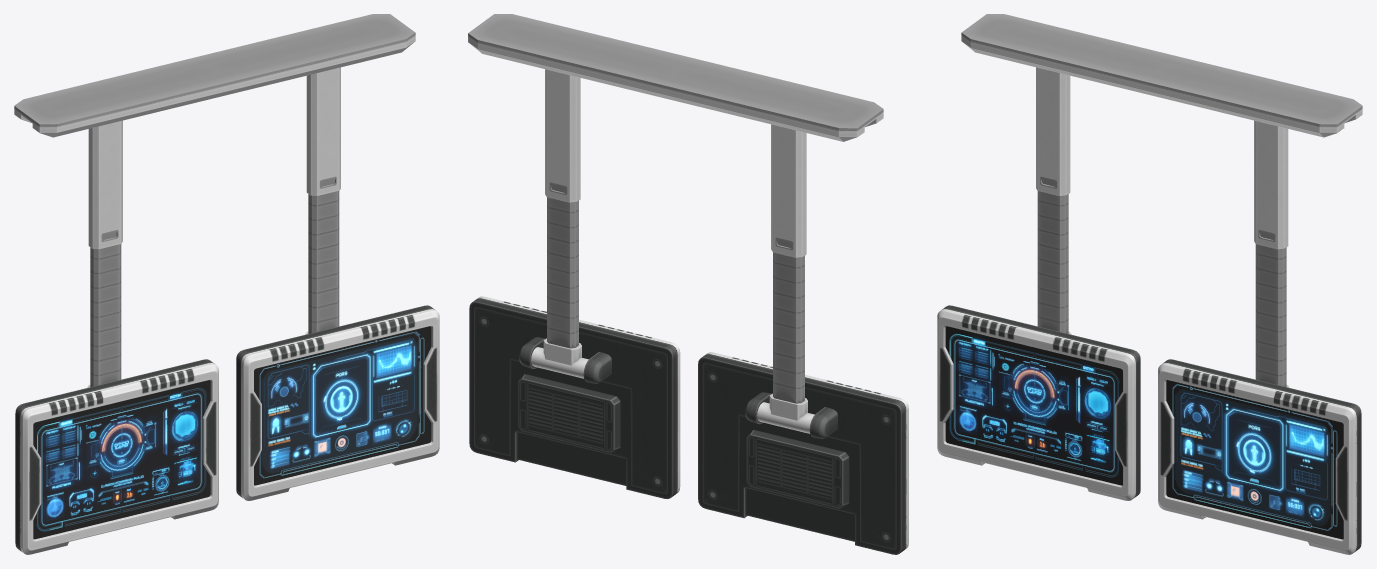
File: MedDisplay02_1.FBX
3 renders of one model, left to right at view 1: azimuth 30°, elevation 25°; view 2: azimuth 150°, elevation 25°; view 3: azimuth 330°, elevation 25°, orthographic. The views are drawn at different scales.
Visible parts, largest first — view 1: Displays, Base, Slides; view 2: Displays, Base, Slides; view 3: Displays, Base, Slides.
Part boxes in pixels (x1=…): Displays: x1=15, y1=305, x2=439, y2=554; Base: x1=14, y1=14, x2=415, y2=249; Slides: x1=87, y1=178, x2=339, y2=387; Displays: x1=469, y1=296, x2=908, y2=554; Base: x1=468, y1=14, x2=883, y2=257; Slides: x1=531, y1=184, x2=814, y2=433; Displays: x1=937, y1=305, x2=1361, y2=554; Base: x1=961, y1=14, x2=1362, y2=249; Slides: x1=1037, y1=178, x2=1289, y2=387.
Size of what is drawn, in the model's own units: 1.5 by 1.46 by 0.221.
